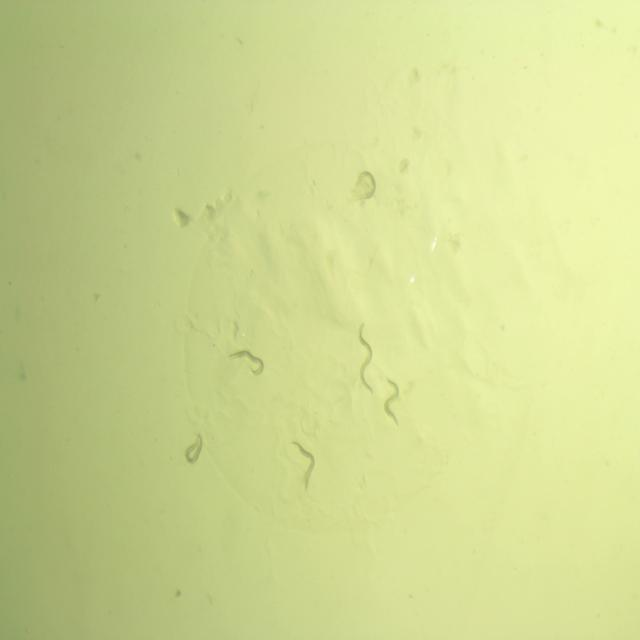worm: (354, 319, 376, 397), (290, 435, 317, 496), (224, 348, 266, 382), (180, 426, 207, 475), (383, 374, 405, 432), (349, 168, 379, 205)
